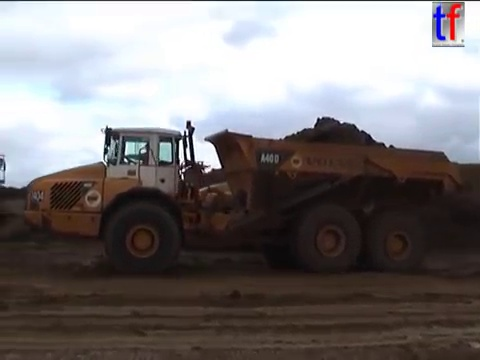truck: (20, 118, 465, 275), (1, 151, 8, 186)
